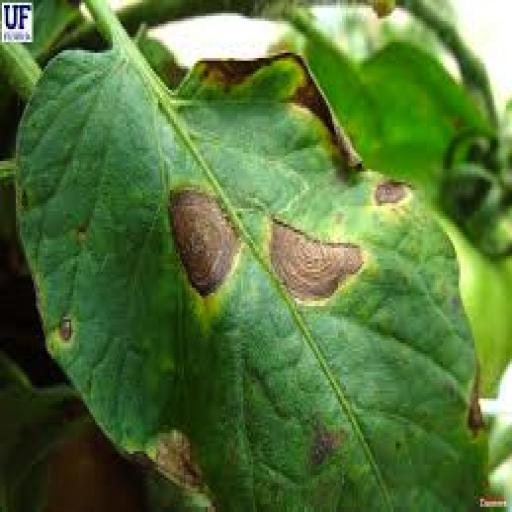Early Blight: (11, 30, 491, 512)
